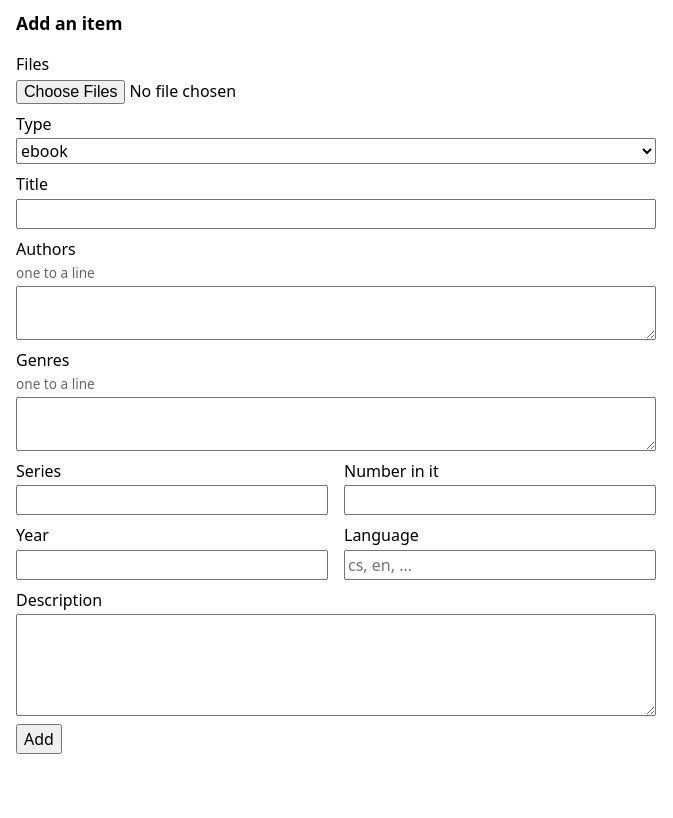
Test case: the add page › uploads nothing until there are files to add
Click the button "Add" at (39, 739), box left=16, top=724, right=62, bottom=754
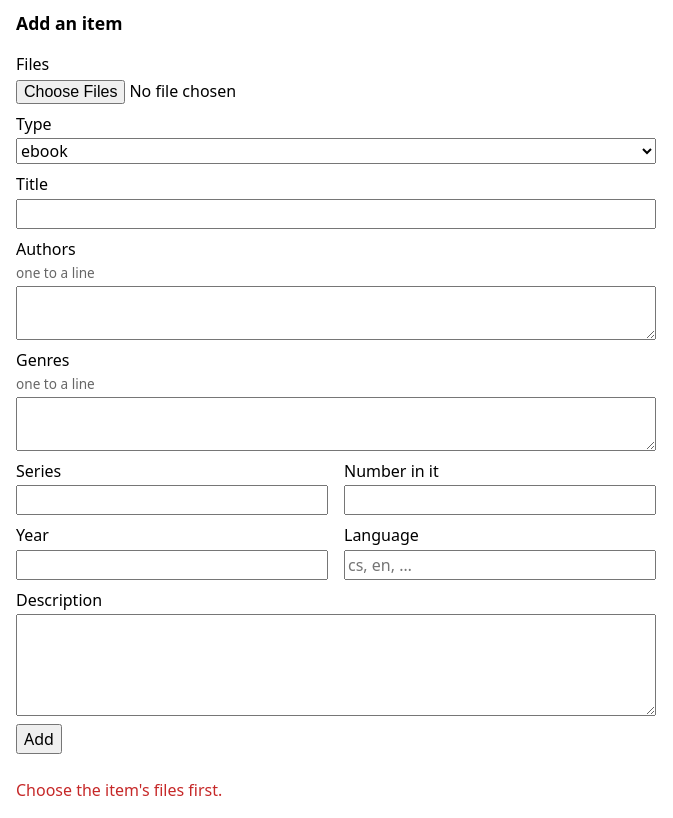
Now the text "Choose the item's files first." is shown, box left=16, top=779, right=222, bottom=801
